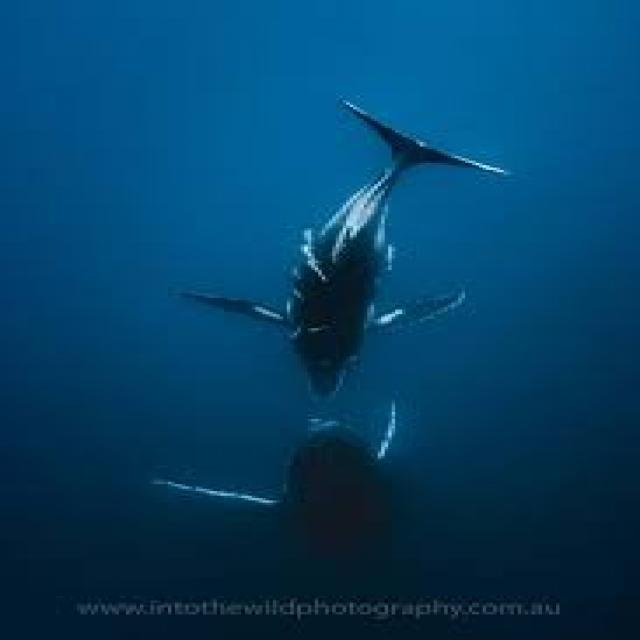blue_whale: (192, 60, 546, 402)
